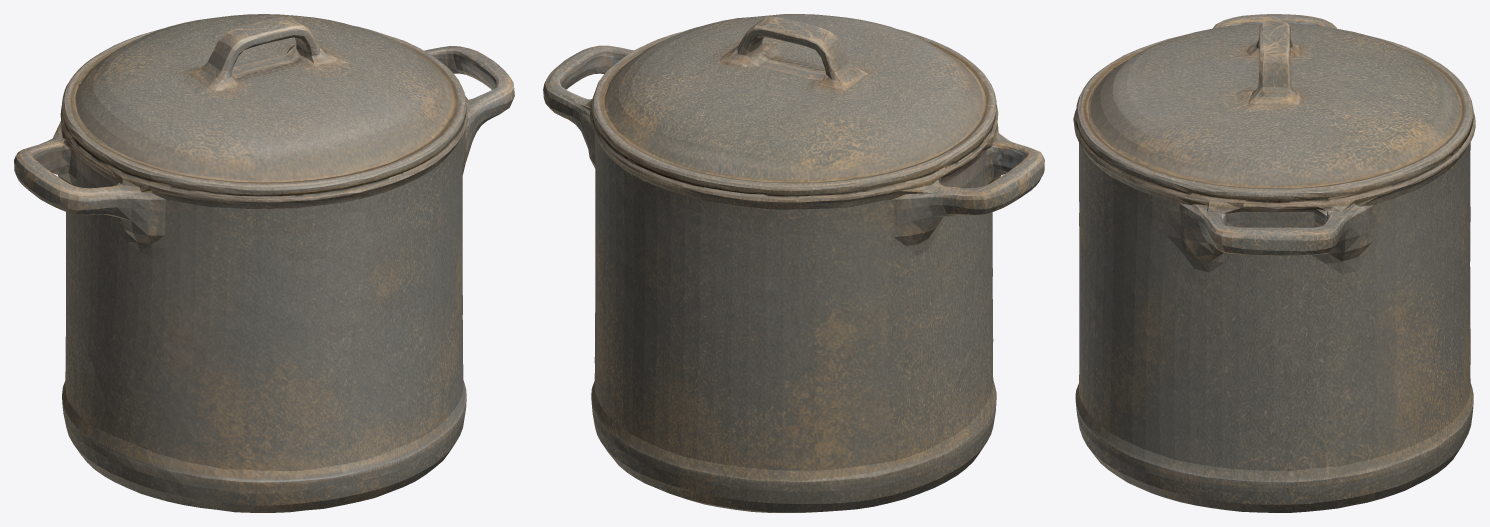
The model's file is Pot1.fbx.
3 renders of one model, left to right at view 1: azimuth 30°, elevation 25°; view 2: azimuth 150°, elevation 25°; view 3: azimuth 270°, elevation 25°, orthographic.
Visible parts, largest first — view 1: Pot1_Low; view 2: Pot1_Low; view 3: Pot1_Low.
Part boxes in pixels (bbox=[...]): Pot1_Low: bbox=[14, 14, 514, 512]; Pot1_Low: bbox=[543, 14, 1044, 512]; Pot1_Low: bbox=[1073, 14, 1475, 512].
Size of the model in its own units: 0.9982 by 0.8434 by 0.7599.
